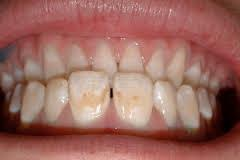Calculus: (113, 74, 155, 126), (70, 76, 110, 122), (18, 82, 46, 125), (45, 79, 71, 119)
